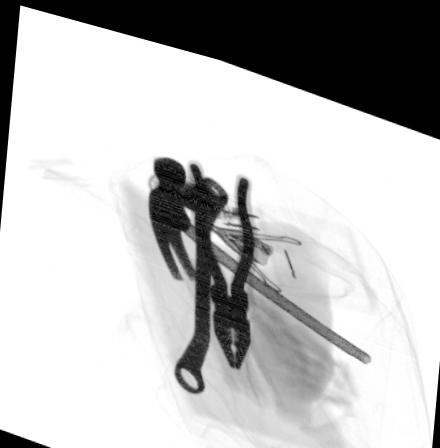Hammer: (146, 145, 371, 345)
Pliers: (187, 151, 262, 361)
Wrench: (172, 165, 231, 386)
